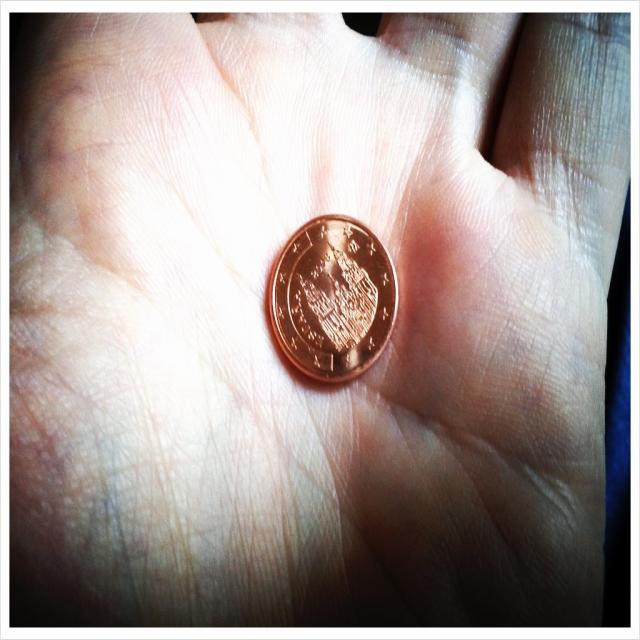Coin: (269, 209, 397, 379)
